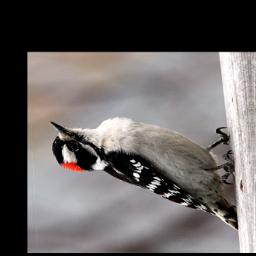Woodpecker: (50, 115, 241, 233)
